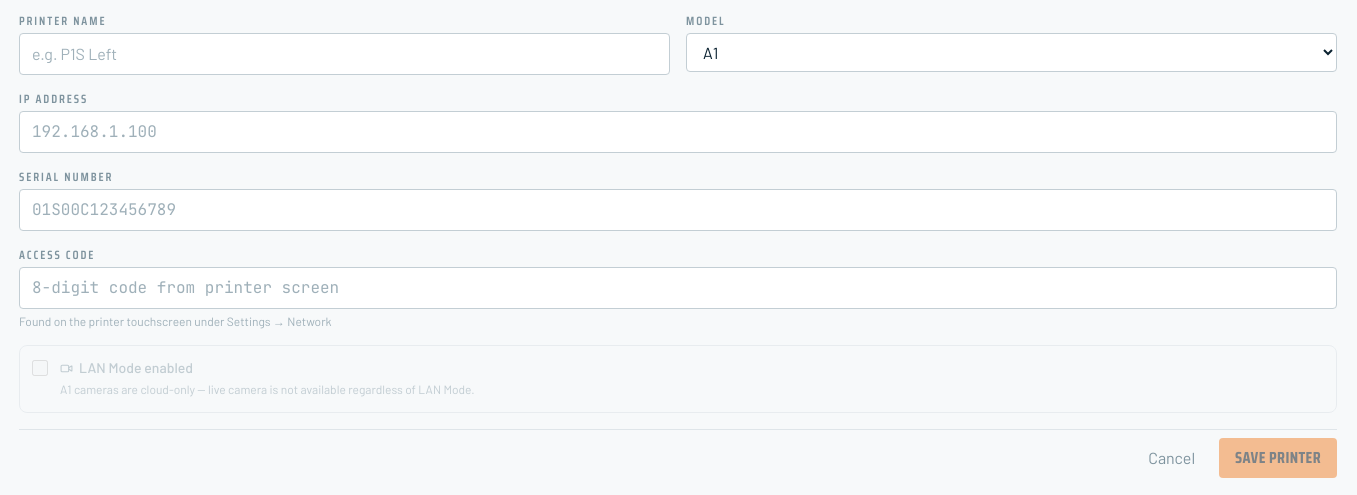
PrinterForm › validation › disables save until every required field is filled
This screenshot has width=1357, height=495.
Expected: the button "Save printer" is disabled, [1219,438,1337,478]
Step 1. Type "Left P1S" into the field with placeholder "e.g. P1S Left" → (344, 54), box [19,33,670,75]
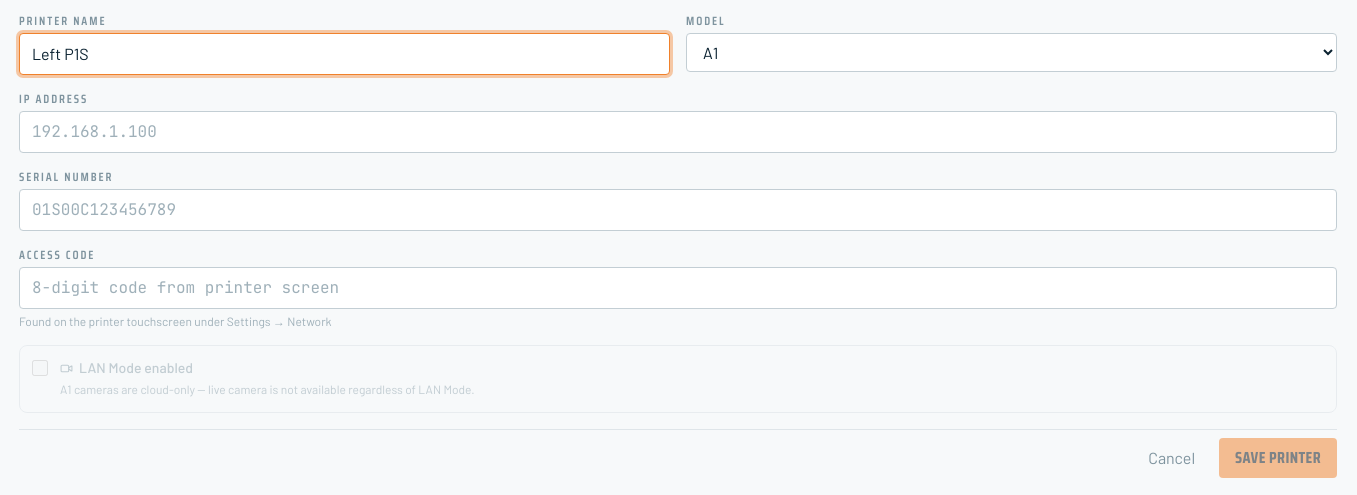
Step 2. Type "192.168.1.50" into the field with placeholder "192.168.1.100" → (678, 132), box [19,111,1337,153]
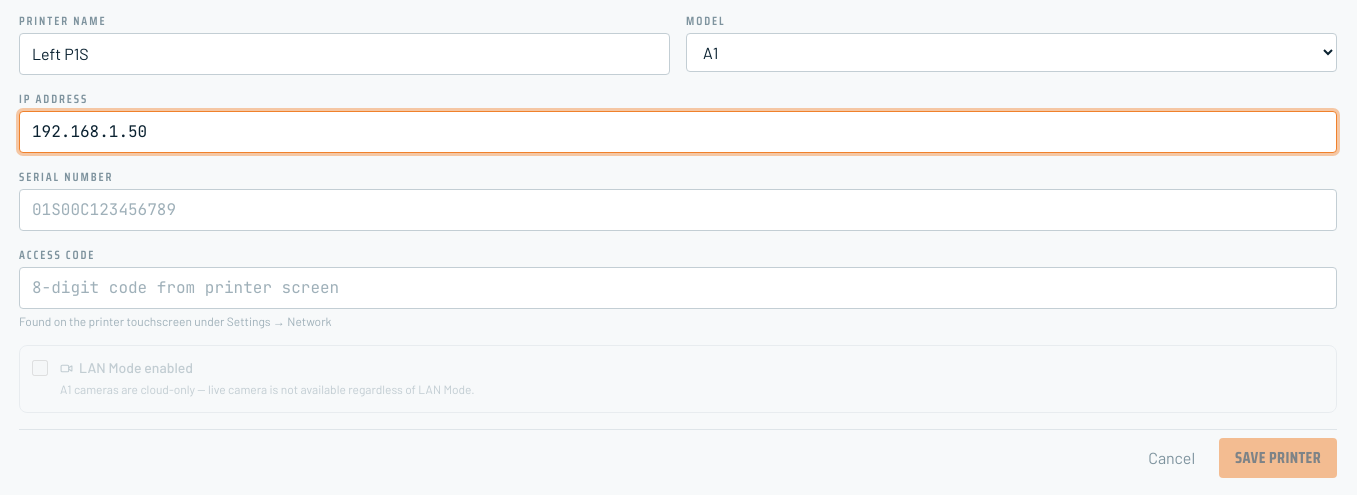
Step 3. Type "abc123" into the field with placeholder "01S00C123456789" → (678, 210), box [19,189,1337,231]
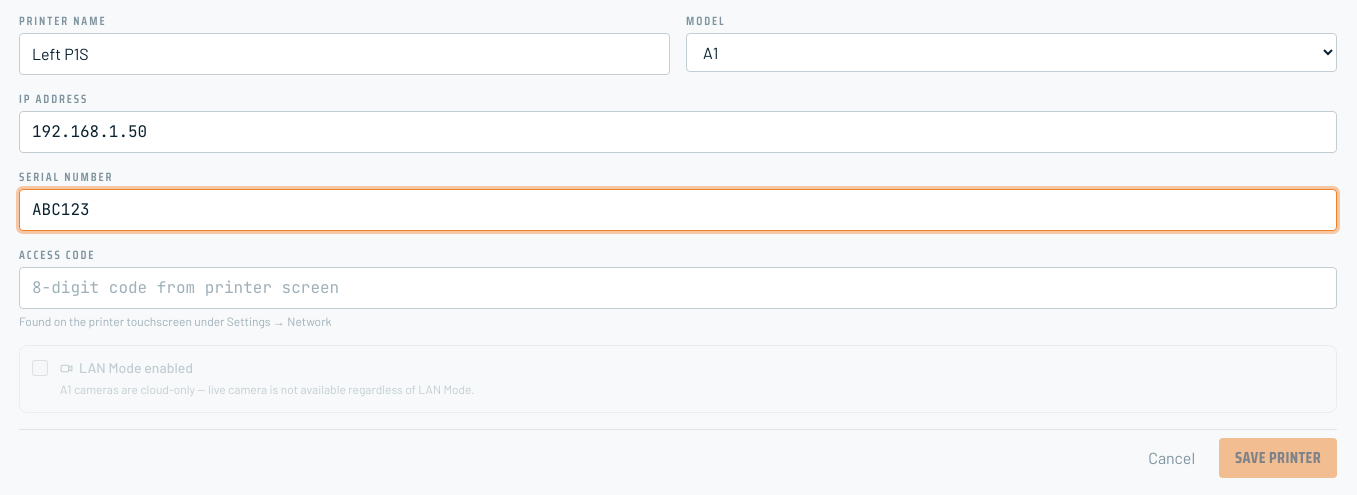
Step 4. Type "12345678" into the field with placeholder "8-digit code from printer screen" → (678, 288), box [19,267,1337,309]
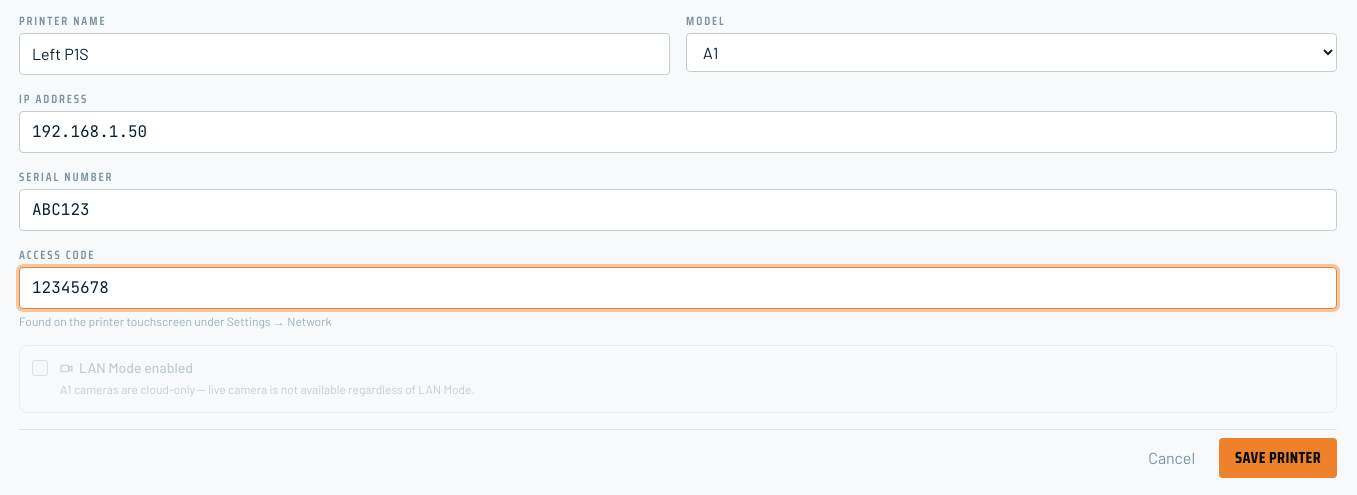
Now the button "Save printer" is enabled, box [1219,438,1337,478]
